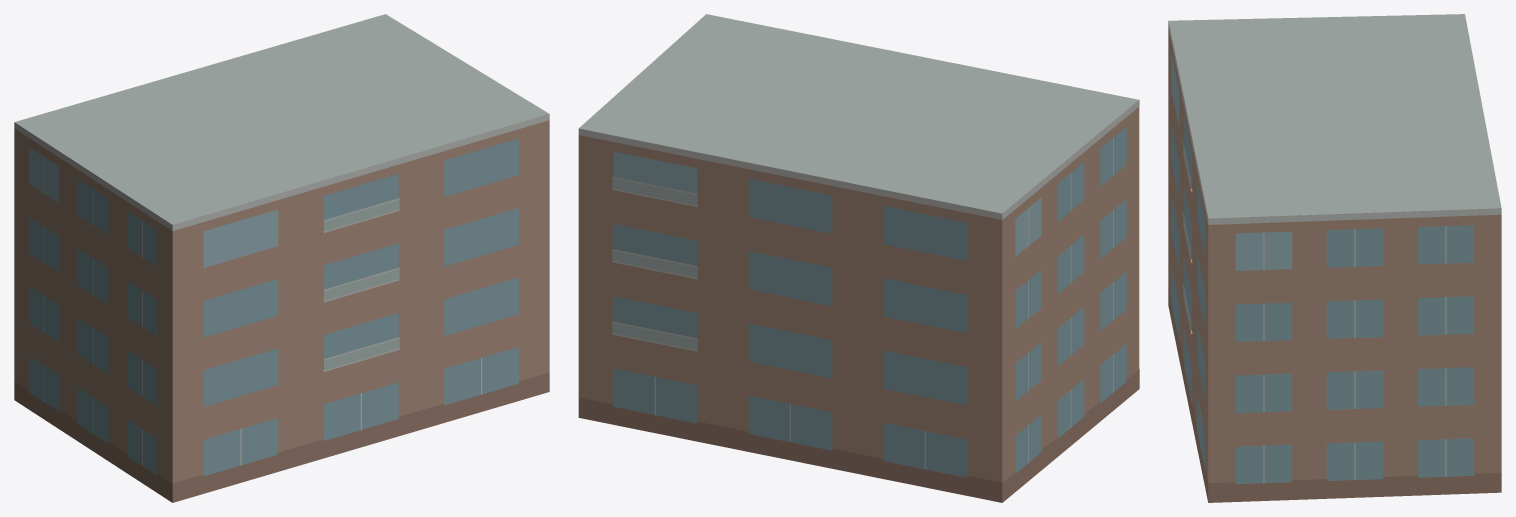
Rendered from survey-upis-32778833.glb.
3 renders of one model, left to right at view 1: azimuth 30°, elevation 25°; view 2: azimuth 150°, elevation 25°; view 3: azimuth 270°, elevation 25°, orthographic. The views are drawn at different scales.
Visible parts, largest first — view 1: survey-upis-32778833.tmp; view 2: survey-upis-32778833.tmp; view 3: survey-upis-32778833.tmp.
Boxes of the visible parts, left/top/right/bottom form: survey-upis-32778833.tmp: left=14, top=14, right=549, bottom=502; survey-upis-32778833.tmp: left=578, top=14, right=1139, bottom=502; survey-upis-32778833.tmp: left=1168, top=14, right=1501, bottom=502.
Size of the model in its own units: 16.83 by 10.9 by 11.59.
